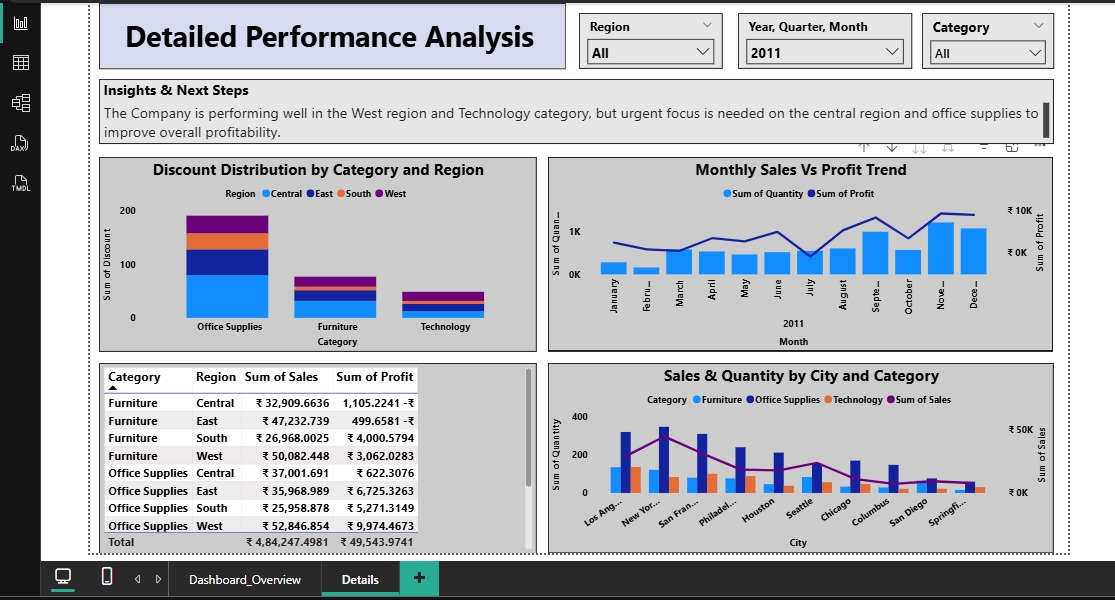

The dashboard page shown, as its layout file describes it:
{"tool":"powerbi","page":{"name":"Details","canvas":[1280,720],"ordinal":1},"visuals":[{"type":"columnChart","title":"Discount Distribution by Category and Region","fields":{"Category":["Orders.Category"],"Series":["Orders.Region"],"Y":["Sum(Orders.Discount)"]},"box":[12.4,200.9,572.6,254.6],"z":0},{"type":"lineClusteredColumnComboChart","title":" Sales & Quantity by City and Category","fields":{"Category":["Orders.City"],"Series":["Orders.Category"],"Y":["Sum(Orders.Quantity)"],"Y2":["Sum(Orders.Sales)"]},"box":[600.1,470.7,662,249.1],"z":1000},{"type":"tableEx","fields":{"Values":["Orders.Category","People.Region","Sum(Orders.Sales)","Sum(Orders.Profit)"]},"box":[12.4,470.7,572.6,250.5],"z":2000},{"type":"slicer","fields":{"Values":["Orders.Order Date.Variation.Date Hierarchy.Year","Orders.Order Date.Variation.Date Hierarchy.Quarter","Orders.Order Date.Variation.Date Hierarchy.Month"]},"box":[847.8,13.2,227.8,73.5],"z":3000},{"type":"lineClusteredColumnComboChart","title":" Monthly Sales Vs Profit Trend","fields":{"Category":["Orders.Order Date.Variation.Date Hierarchy.Year","Orders.Order Date.Variation.Date Hierarchy.Month"],"Y":["Sum(Orders.Quantity)"],"Y2":["Sum(Orders.Profit)"]},"box":[600.1,200.9,660.6,254.6],"z":4000},{"type":"slicer","fields":{"Values":["Orders.Category"]},"box":[1088.8,13.2,173.4,73.5],"z":5000},{"type":"slicer","fields":{"Values":["Orders.Region"]},"box":[640.7,13.2,188.1,73.5],"z":6000},{"type":"shape","box":[11.8,0,611.3,86.7],"z":7000},{"type":"textbox","box":[26.4,13.2,574.5,63.2],"z":8000},{"type":"textbox","title":"Insights & Next Steps","box":[11.8,99.9,1250.4,85.2],"z":9000}]}

Visuals, with their boxes on the page's 1280x720 design canvas (x1, y1, x2, y2). These are canvas units, not pixel positions in the 1115x600 screenshot, which may show the page scaled, cropped or inside an application window:
"Discount Distribution by Category and Region" columnChart: left=12, top=201, right=585, bottom=456
" Sales & Quantity by City and Category" lineClusteredColumnComboChart: left=600, top=471, right=1262, bottom=720
tableEx - Orders.Category x People.Region: left=12, top=471, right=585, bottom=721
slicer - Orders.Order Date.Variation.Date Hierarchy.Year x Orders.Order Date.Variation.Date Hierarchy.Quarter: left=848, top=13, right=1076, bottom=87
" Monthly Sales Vs Profit Trend" lineClusteredColumnComboChart: left=600, top=201, right=1261, bottom=456
slicer - Orders.Category: left=1089, top=13, right=1262, bottom=87
slicer - Orders.Region: left=641, top=13, right=829, bottom=87
shape: left=12, top=0, right=623, bottom=87
textbox: left=26, top=13, right=601, bottom=76
"Insights & Next Steps" textbox: left=12, top=100, right=1262, bottom=185
